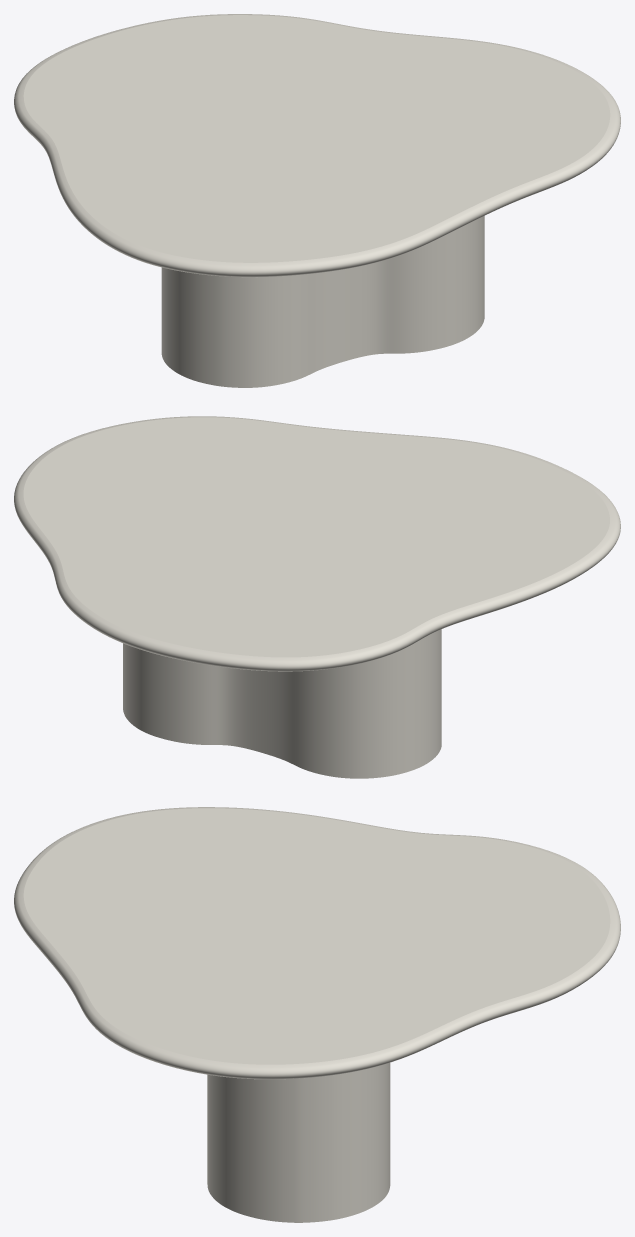
The model's file is pale_topone_round_riverwave.glb.
3 views of the same model, one above another, from view 1: azimuth 30°, elevation 25°; view 2: azimuth 150°, elevation 25°; view 3: azimuth 270°, elevation 25° (orthographic). The views are drawn at different scales.
Parts seen in each view (by area): view 1: round_topone, riverwave; view 2: round_topone, riverwave; view 3: round_topone, riverwave.
Part boxes in pixels (x1,y1,x2,y2): round_topone: (14, 14, 620, 277); riverwave: (161, 216, 484, 387); round_topone: (14, 416, 620, 671); riverwave: (123, 629, 441, 778); round_topone: (14, 807, 620, 1079); riverwave: (207, 1062, 390, 1222).
Size of the model in its own units: 6.83 by 2.5 by 6.6.
1 material, 1 textured.
